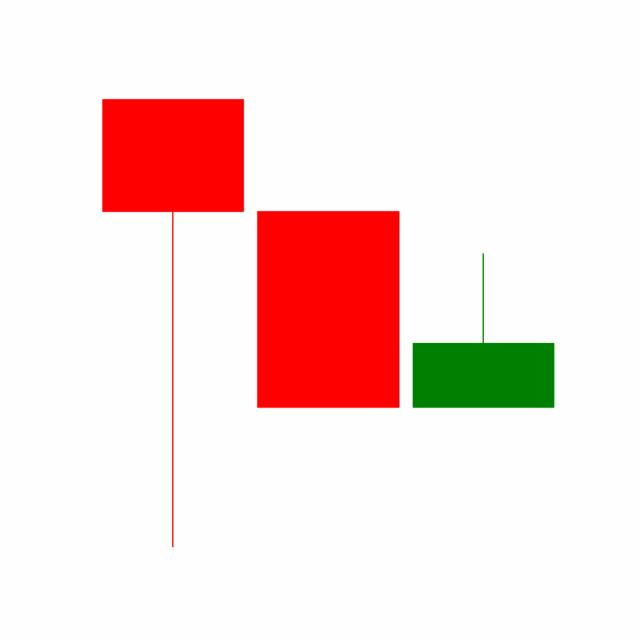Marubozu: (249, 208, 406, 410)
